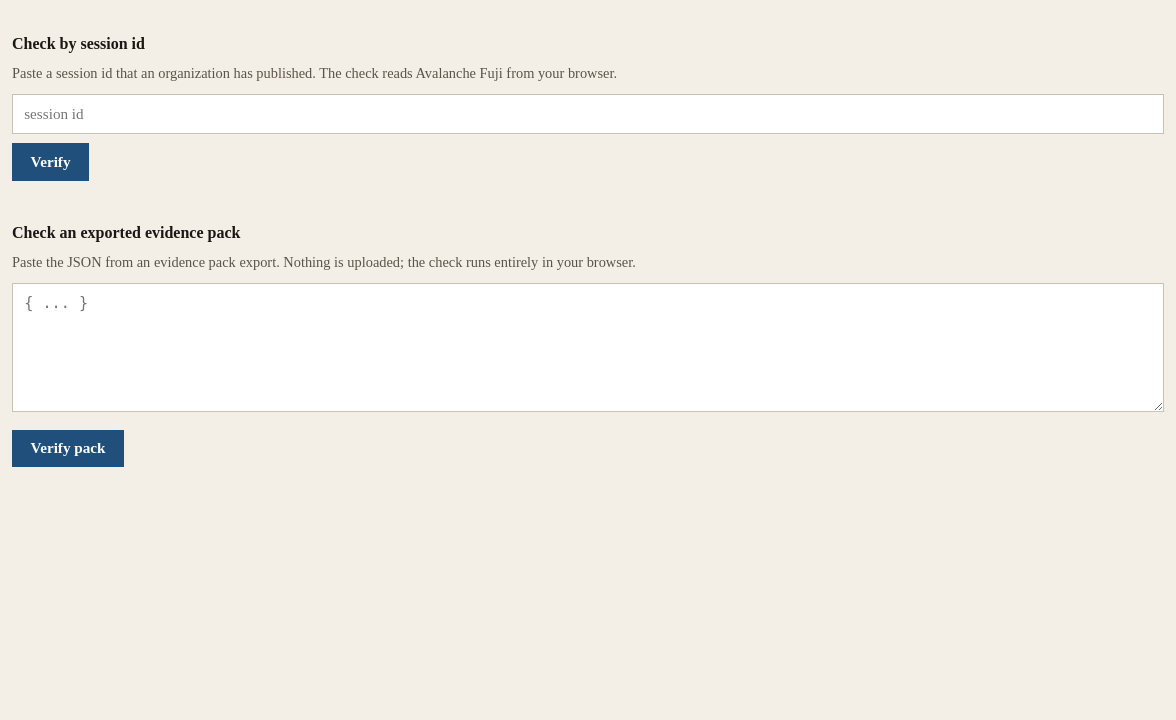
Test: VerifyClient › shows a no-record message when the public endpoint 404s
The width and height of the screenshot is (1176, 720).
Type "nope" into the field labelled "Check by session id". click: (588, 114)
box: [12, 94, 1164, 134]
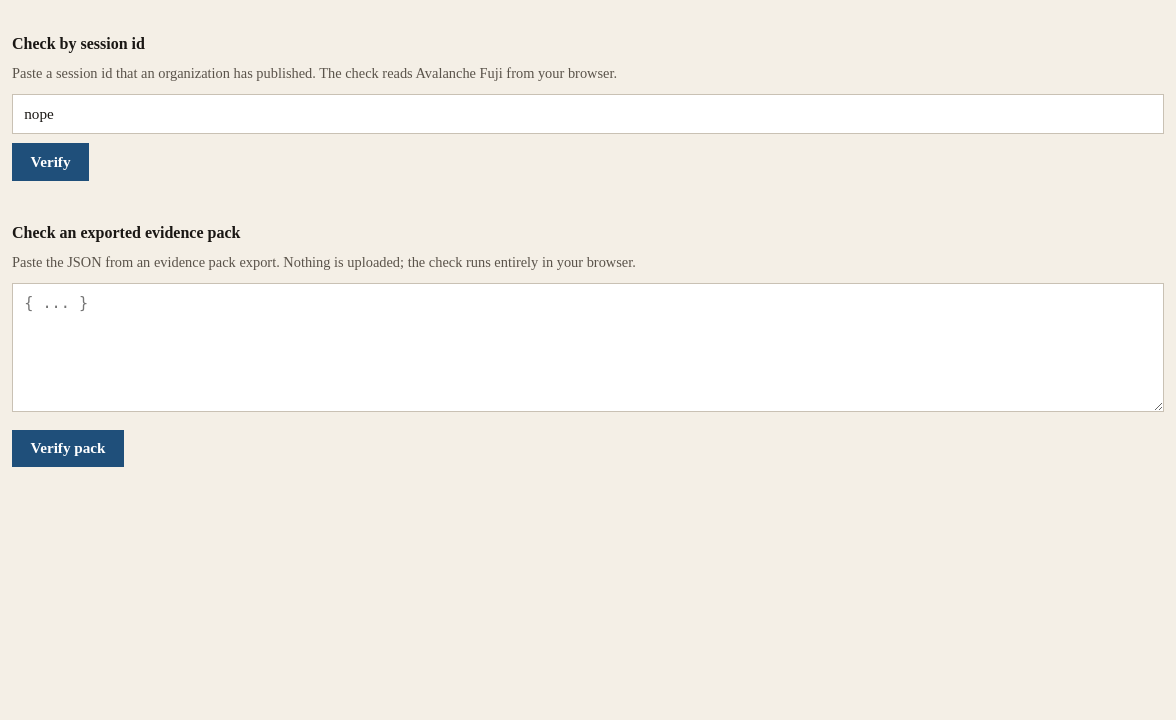
Click the button "Verify". click: (51, 162)
box: [12, 143, 89, 181]
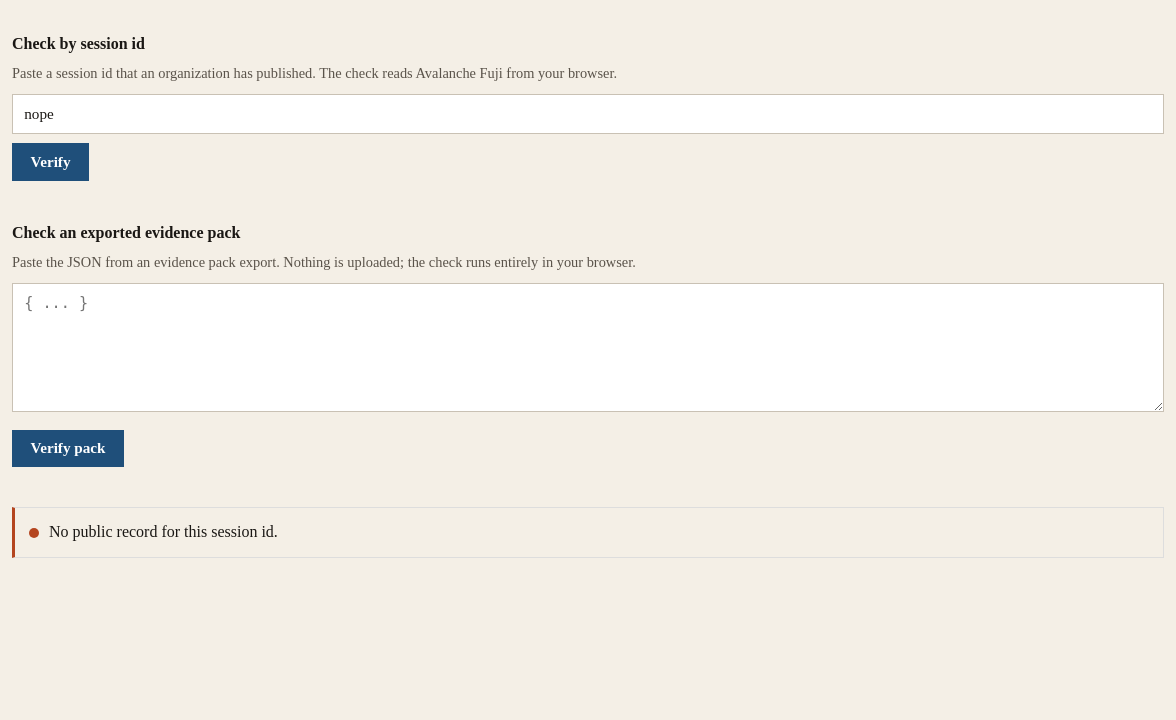
Expected: the text "No public record for this session id." is shown, [49, 520, 278, 545]
